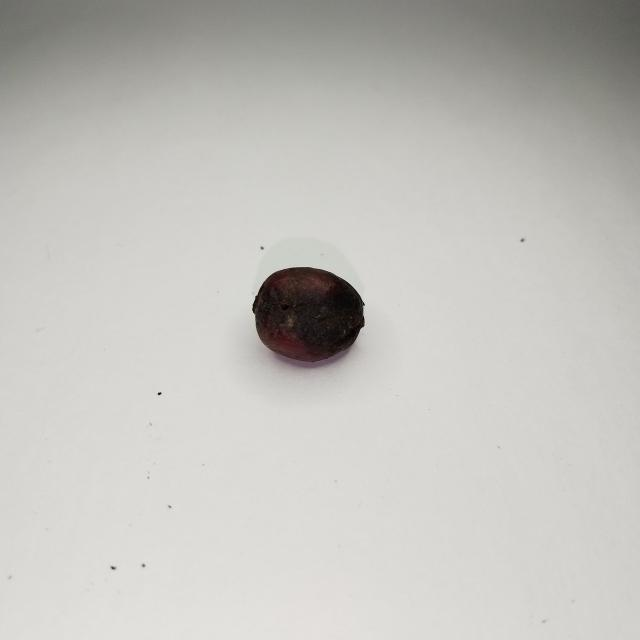Danado: (252, 272, 364, 364)
